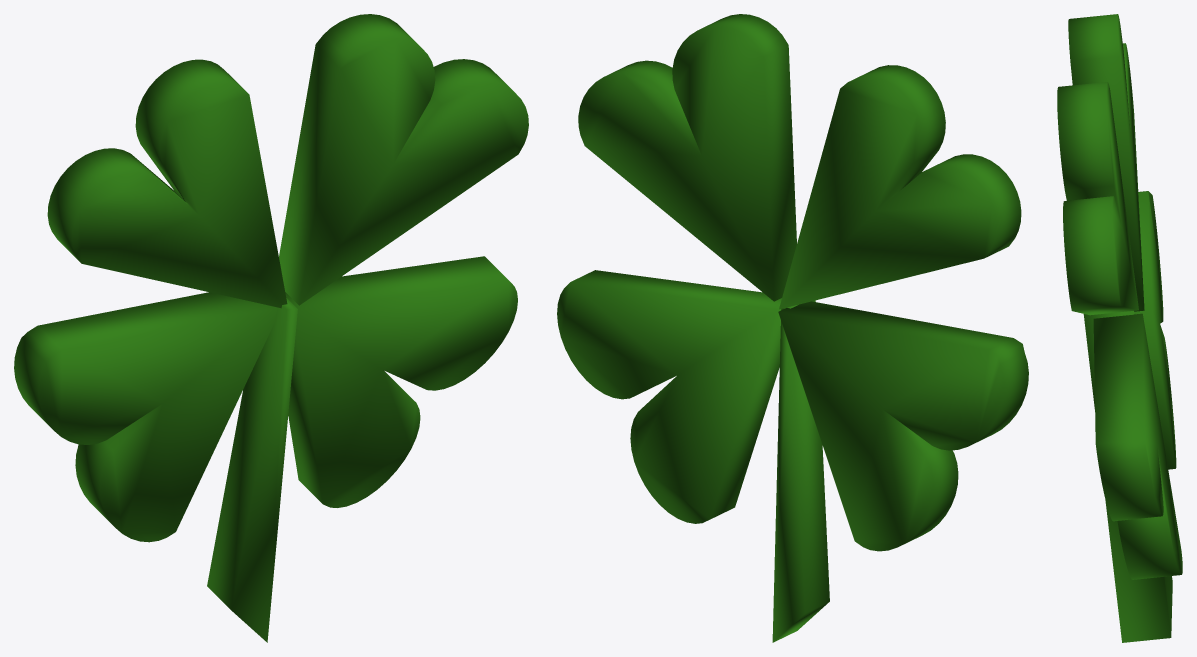
File: Clover.fbx
The picture shows the model from 3 angles, left to right: view 1: azimuth 30°, elevation 25°; view 2: azimuth 150°, elevation 25°; view 3: azimuth 270°, elevation 25°; orthographic projection. The views are drawn at different scales.
Parts seen in each view (by area): view 1: clover.002; view 2: clover.002; view 3: clover.002.
Boxes of the visible parts, <box> form: clover.002: <box>14,14,528,642</box>; clover.002: <box>557,14,1028,642</box>; clover.002: <box>1057,14,1182,642</box>.
Size of the model in its own units: 24.32 by 29.91 by 5.73.
